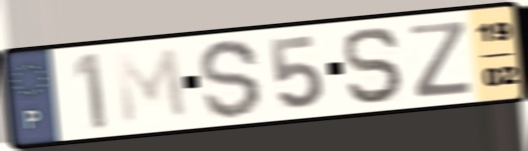1: (71, 49, 110, 134)
5: (266, 32, 327, 112)
M: (111, 44, 192, 128)
S: (196, 36, 265, 122), (340, 24, 409, 106)
Z: (408, 18, 474, 101)
